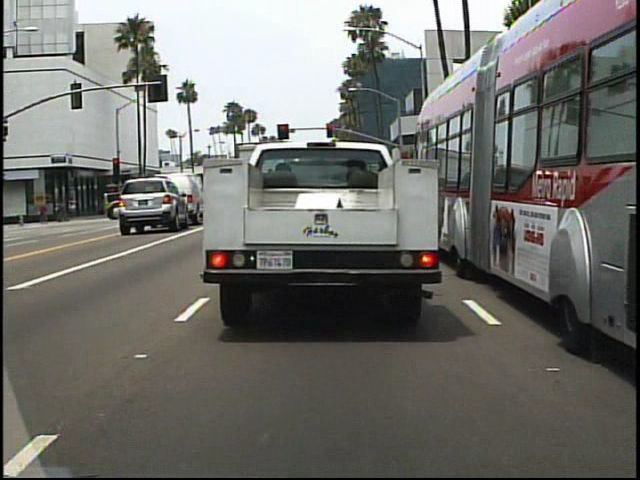person: (37, 196, 52, 224)
